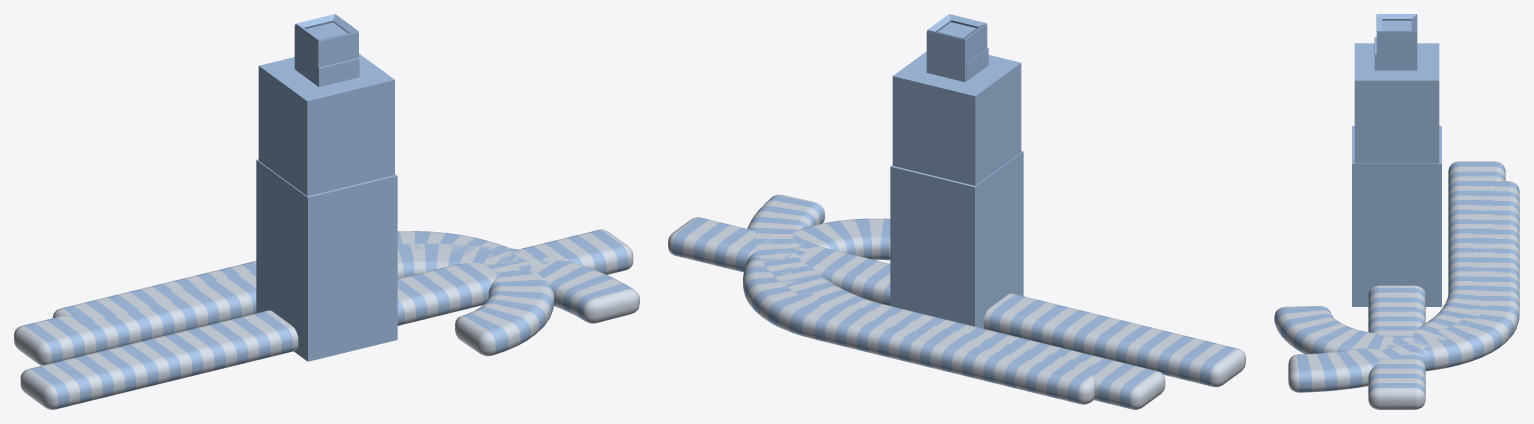
Rendered from All Mesh.fbx.
The picture shows the model from 3 angles, left to right: view 1: azimuth 30°, elevation 25°; view 2: azimuth 150°, elevation 25°; view 3: azimuth 270°, elevation 25°; orthographic projection. The views are drawn at different scales.
Parts seen in each view (by area): view 1: building2, path_strait, path_L, building4, path_U, building3, building; view 2: path_U, path_strait, building2, path_L, building4, building3, building; view 3: path_U, path_L, building4, building3, building2, path_strait.
Part boxes in pixels (x1,y1,x2,y2): building2: (256,14,397,361); path_strait: (20,229,633,409); path_L: (14,243,639,365); building4: (258,51,394,196); path_U: (52,231,554,356); building3: (256,159,397,228); building: (267,75,298,189); path_U: (743,218,1102,404); path_strait: (668,217,1245,387); building2: (890,14,1023,328); path_L: (746,194,1165,409); building4: (892,47,1021,185); building3: (890,151,1023,275); building: (983,72,1013,179); path_U: (1274,181,1519,370); path_L: (1288,161,1505,392); building4: (1354,37,1439,163); building3: (1352,126,1441,255); building2: (1352,14,1441,306); path_strait: (1368,285,1425,409).
Size of what is drawn, in the model's own units: 12855 by 6855 by 5318.
